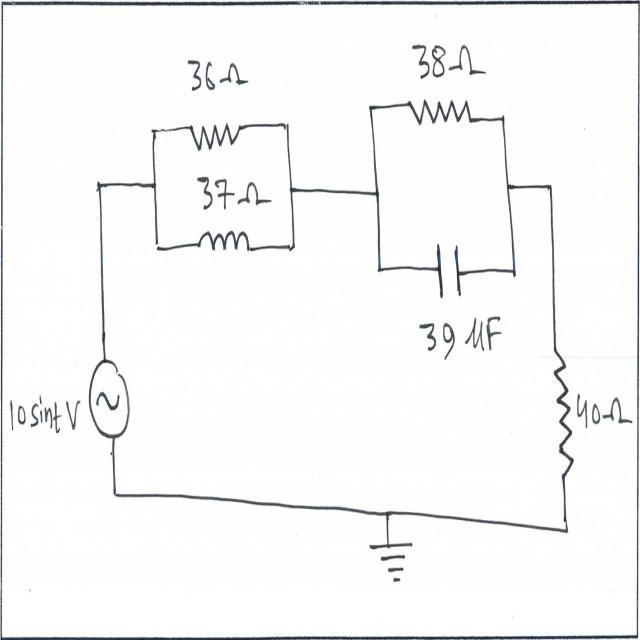ac_current: (85, 351, 132, 446)
capacitor: (432, 235, 466, 306)
ground: (366, 532, 418, 594)
inductor: (195, 222, 254, 270)
resistor: (403, 78, 474, 144), (548, 338, 574, 492), (185, 104, 242, 159)
